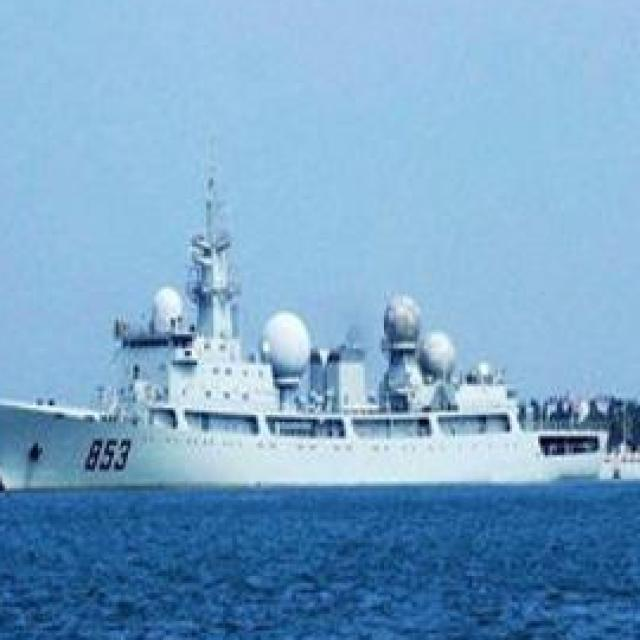navalvessels: (0, 190, 619, 493)
